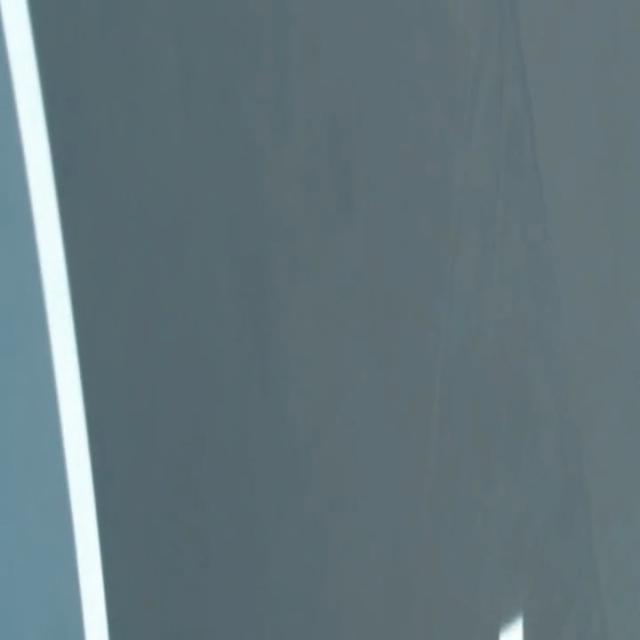center: (498, 614, 524, 639)
